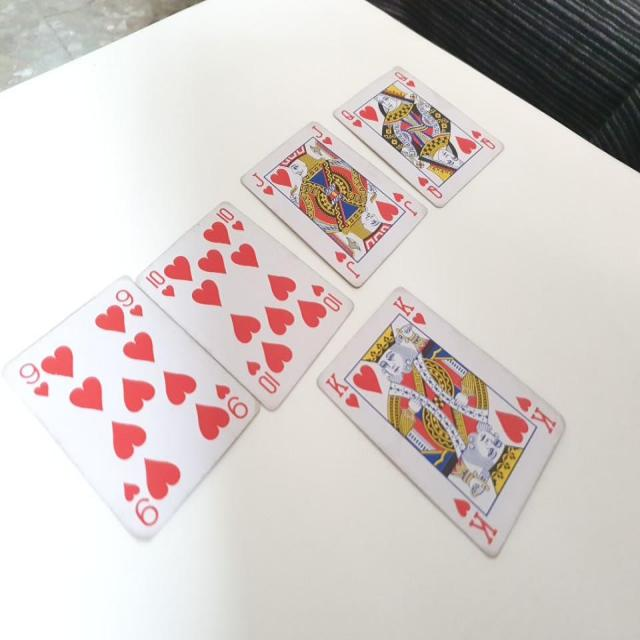10 Hearts: (136, 192, 358, 415)
9 Hearts: (2, 270, 262, 561)
J Hearts: (238, 117, 431, 298)
K Hearts: (312, 281, 565, 564)
Q Hearts: (330, 56, 507, 207)
